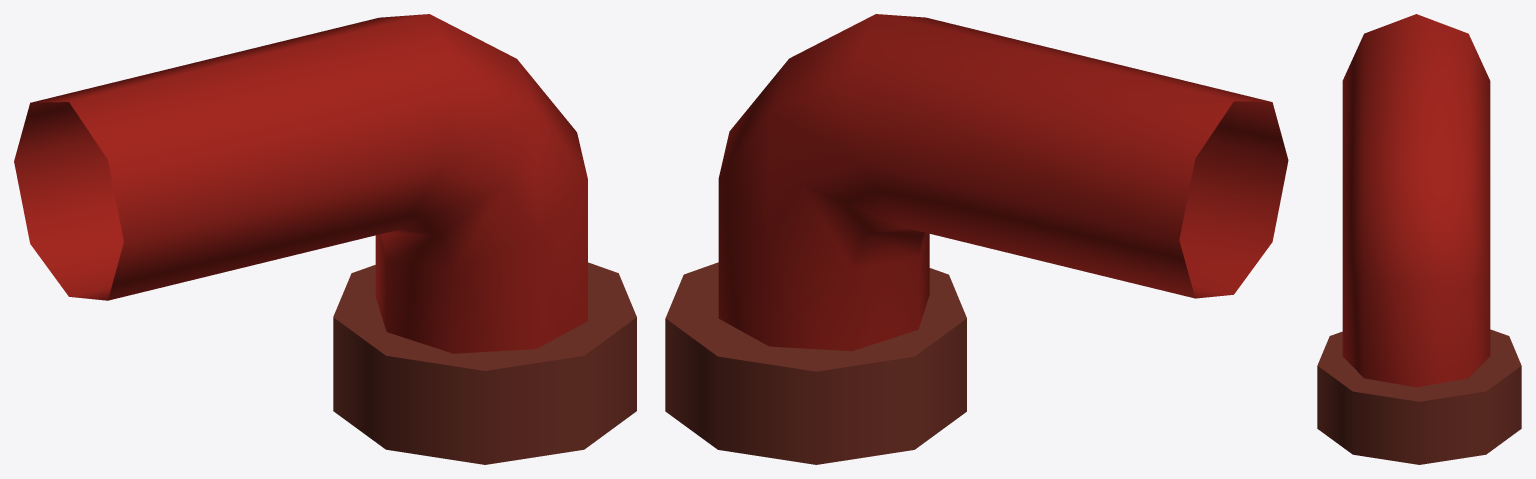
The model's file is Pipe_1_E_2_1.glb.
The picture shows the model from 3 angles, left to right: view 1: azimuth 30°, elevation 25°; view 2: azimuth 150°, elevation 25°; view 3: azimuth 270°, elevation 25°; orthographic projection. The views are drawn at different scales.
Visible parts, largest first — view 1: Pipe_1_E_2_1; view 2: Pipe_1_E_2_1; view 3: Pipe_1_E_2_1.
Part boxes in pixels (x1=…): Pipe_1_E_2_1: x1=14, y1=14, x2=636, y2=464; Pipe_1_E_2_1: x1=665, y1=14, x2=1288, y2=464; Pipe_1_E_2_1: x1=1317, y1=14, x2=1521, y2=464.
Bounding box in the file's own units: 0.6318 × 0.4392 × 0.3012.
1 material, 1 textured.
